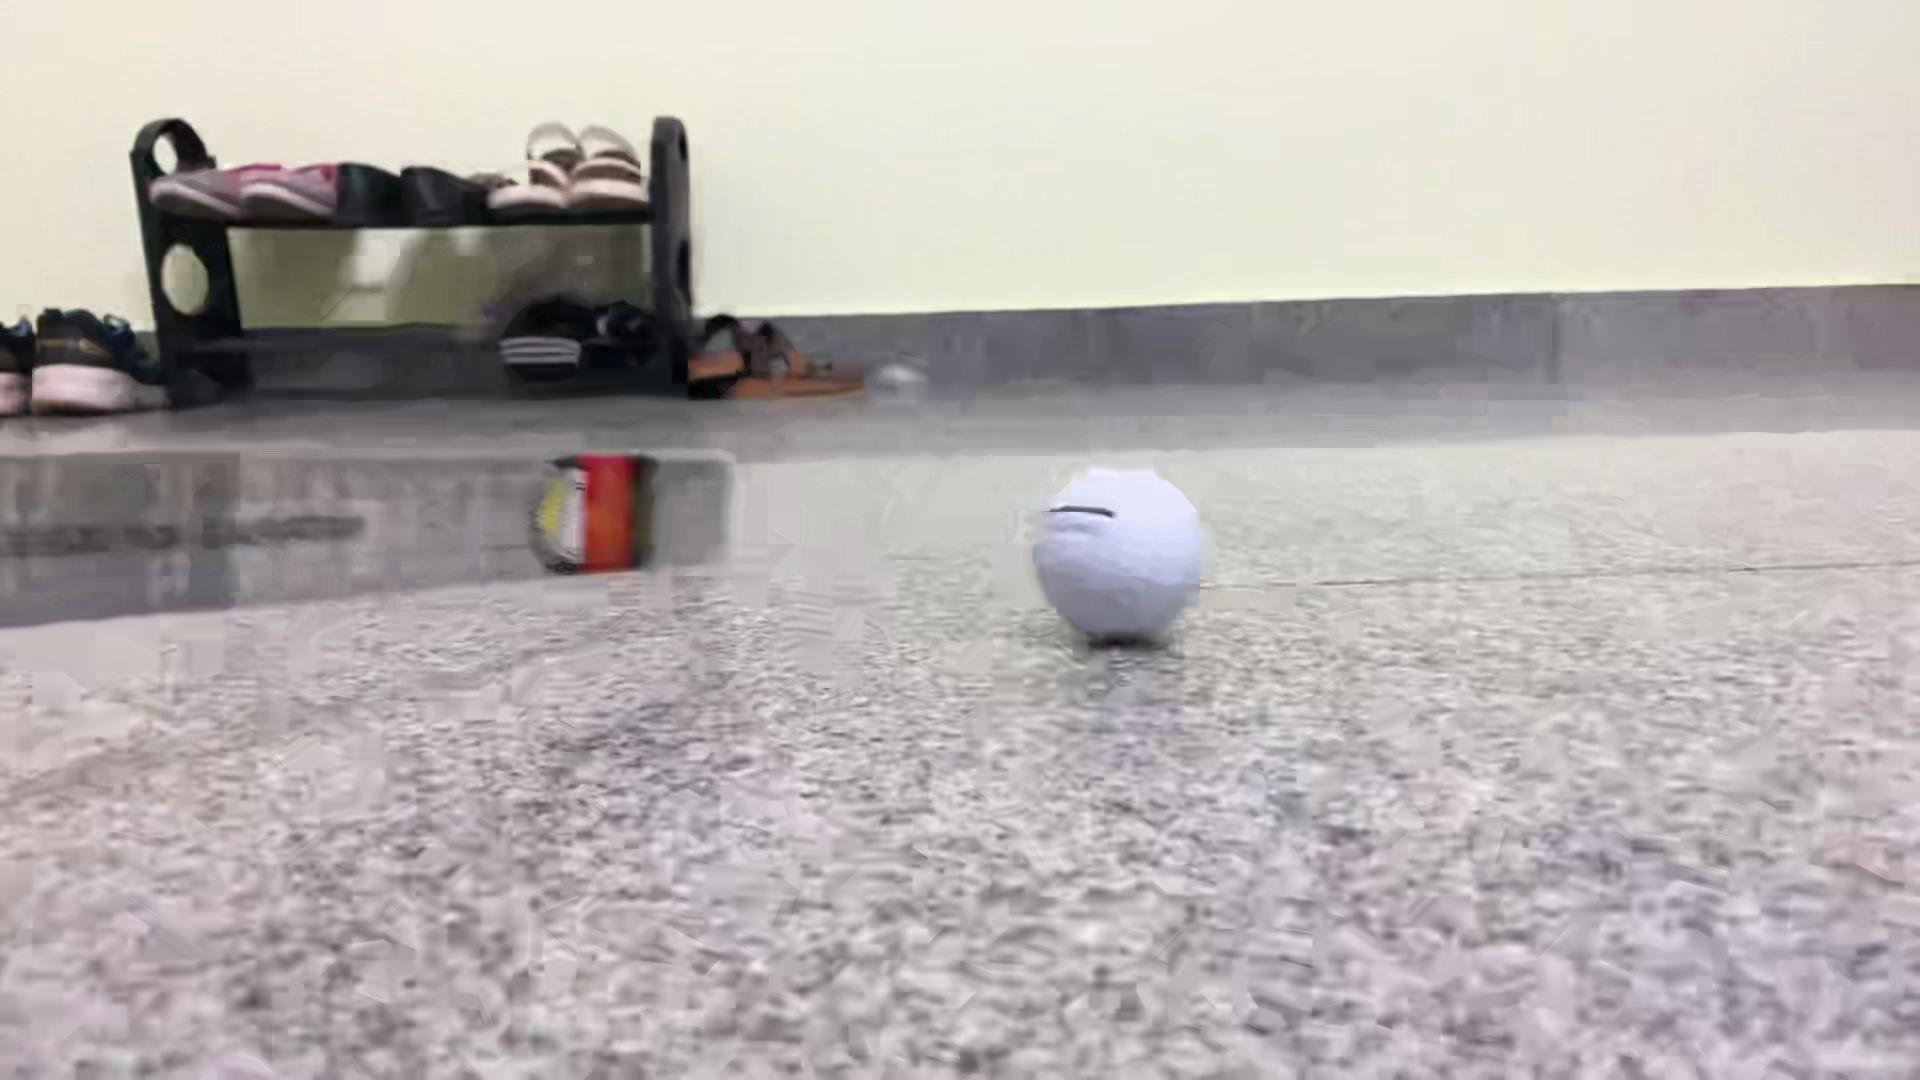golfball: (1032, 466, 1208, 645)
